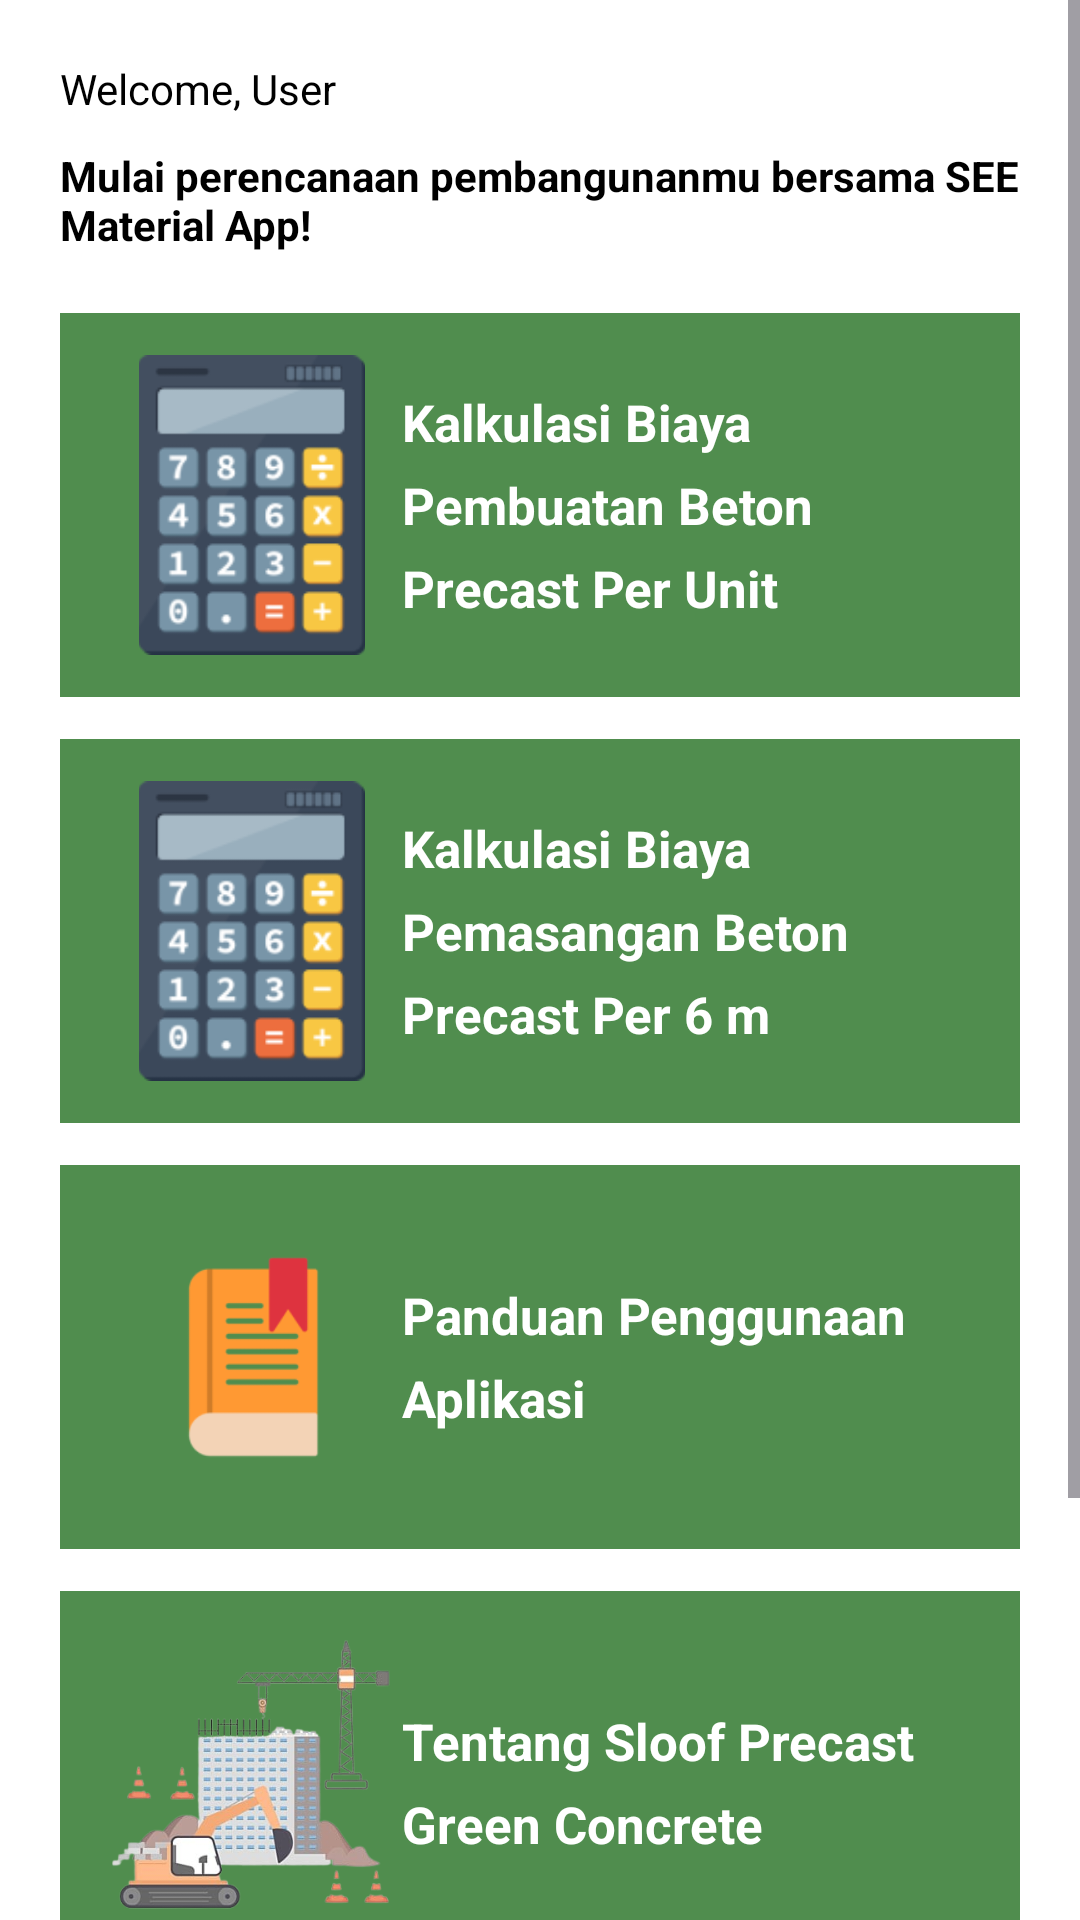

Where icons sit on this 1080x1920 app screen, as (x1, y1, x2, y2):
konstruksi: (112, 1642, 389, 1908)
